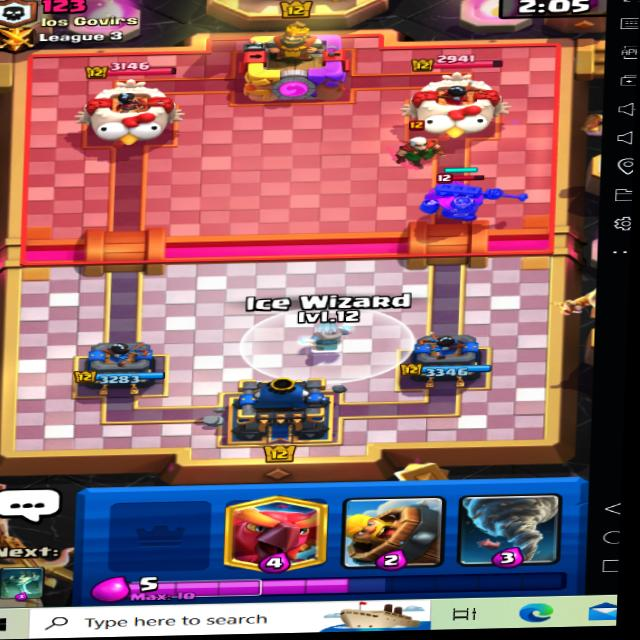magic-archer: (368, 120, 453, 175)
skeleton-king: (402, 168, 535, 249)
